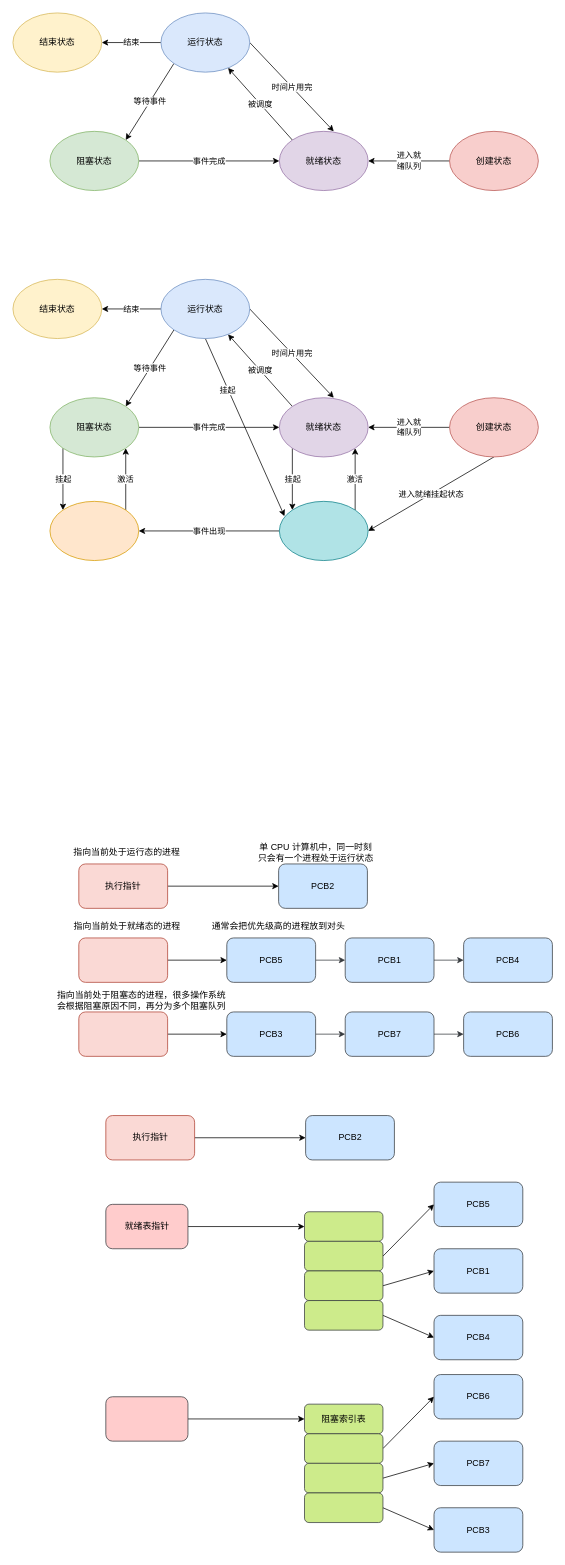
This 565x1565 diagram has some shape labels left out. Each missing label, with the centre of its shape:
就绪挂起状态: the point at 323,531
就绪索引表: the point at 343,1226
就绪队列指针: the point at 123,959
阻塞挂起状态: the point at 94,531
阻塞表指针: the point at 146,1418
阻塞队列指针: the point at 123,1033
